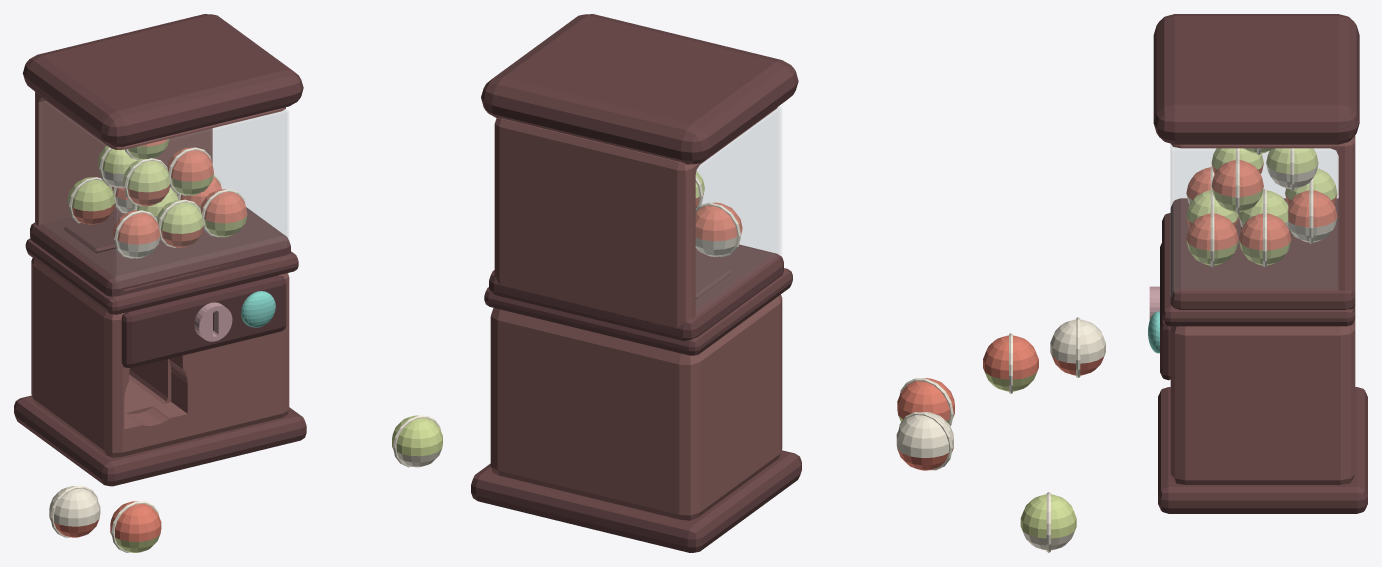
The model's file is gacha-machine.glb.
3 views of the same model, side by side, from view 1: azimuth 30°, elevation 25°; view 2: azimuth 150°, elevation 25°; view 3: azimuth 270°, elevation 25° (orthographic). The views are drawn at different scales.
Visible parts, largest first — view 1: Cabinet, GlobeVisor, GlassFront, GlassLeft, GlobeShelf, BasePlinth, GlobeShell, PanelPlate, CabinetLedge, FloorCapC, FloorCapA, FloorCapB (+11 smaller); view 2: Cabinet, GlobeShell, GlobeVisor, GlassLeft, BasePlinth, GlobeShelf, CabinetLedge, FloorCapA, Cap00, FloorCapB, HoleHatch; view 3: Cabinet, GlobeVisor, GlassRight, GlobeShelf, BasePlinth, CabinetLedge, GlobeShell, FloorCapC, FloorCapA, FloorCapB, Cap02, Cap08 (+9 smaller).
Part boxes in pixels (x1=…): Cabinet: x1=31, y1=258, x2=289, y2=457; GlobeVisor: x1=23, y1=14, x2=303, y2=146; GlassFront: x1=117, y1=111, x2=286, y2=280; GlassLeft: x1=41, y1=99, x2=117, y2=281; GlobeShelf: x1=30, y1=206, x2=290, y2=296; BasePlinth: x1=14, y1=395, x2=306, y2=486; GlobeShell: x1=35, y1=92, x2=285, y2=291; PanelPlate: x1=121, y1=275, x2=286, y2=367; CabinetLedge: x1=25, y1=238, x2=298, y2=314; FloorCapC: x1=392, y1=415, x2=442, y2=467; FloorCapA: x1=49, y1=486, x2=100, y2=537; FloorCapB: x1=110, y1=501, x2=161, y2=552; Cabinet: x1=490, y1=294, x2=782, y2=520; GlobeShell: x1=494, y1=107, x2=777, y2=330; GlobeVisor: x1=481, y1=14, x2=798, y2=164; GlassLeft: x1=696, y1=106, x2=781, y2=309; BasePlinth: x1=471, y1=450, x2=801, y2=552; GlobeShelf: x1=489, y1=244, x2=783, y2=340; CabinetLedge: x1=484, y1=268, x2=792, y2=355; FloorCapA: x1=896, y1=412, x2=953, y2=470; Cap00: x1=695, y1=202, x2=742, y2=256; FloorCapB: x1=897, y1=378, x2=954, y2=422; HoleHatch: x1=695, y1=261, x2=731, y2=298; Cabinet: x1=1170, y1=319, x2=1355, y2=484; GlobeVisor: x1=1153, y1=14, x2=1359, y2=144; GlassRight: x1=1171, y1=149, x2=1337, y2=294; GlobeShelf: x1=1170, y1=198, x2=1355, y2=309; BasePlinth: x1=1158, y1=387, x2=1367, y2=513; CabinetLedge: x1=1162, y1=213, x2=1355, y2=326; GlobeShell: x1=1171, y1=135, x2=1355, y2=293; FloorCapC: x1=1020, y1=494, x2=1076, y2=550; FloorCapA: x1=1050, y1=319, x2=1105, y2=375; FloorCapB: x1=983, y1=335, x2=1038, y2=391; Cap02: x1=1186, y1=213, x2=1238, y2=265; Cap08: x1=1211, y1=160, x2=1263, y2=212.
Bounding box in the file's own units: 2.26 × 2.13 × 1.83.
